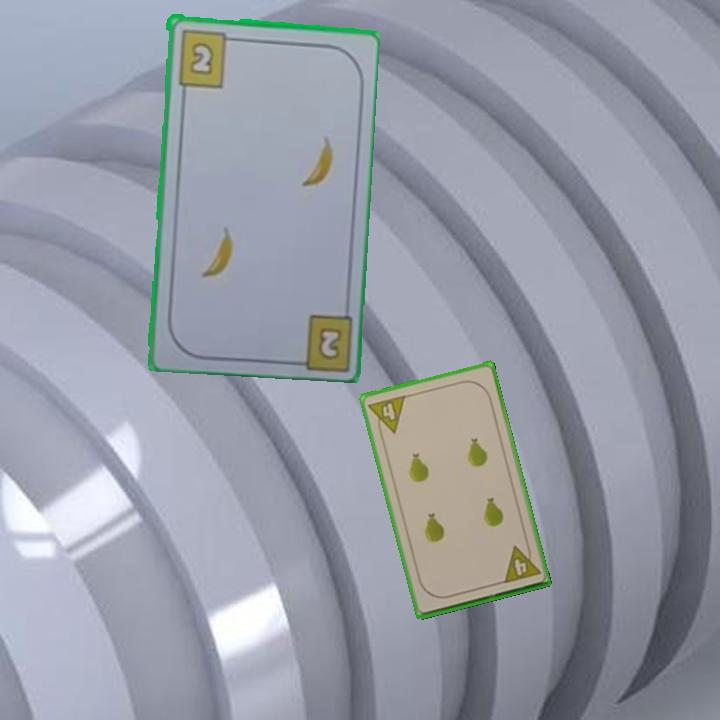2b: (174, 26, 238, 89), (314, 323, 344, 363)
4p: (499, 540, 543, 586), (365, 392, 408, 439)
